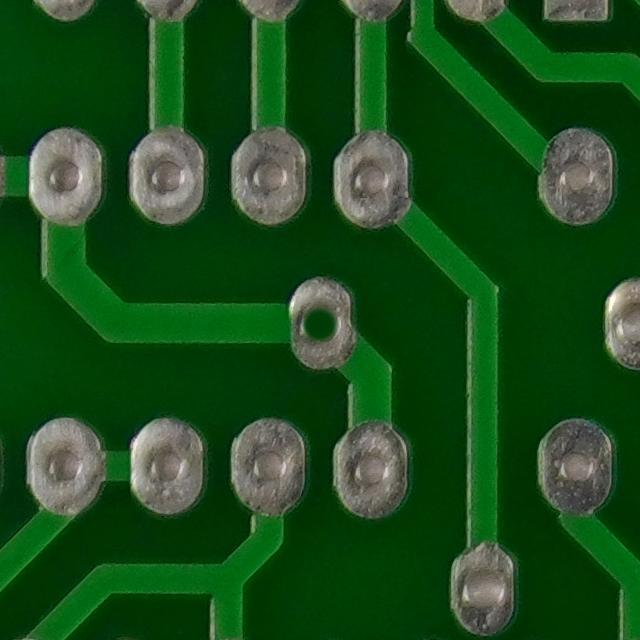missing_hole: (285, 285, 359, 361)
